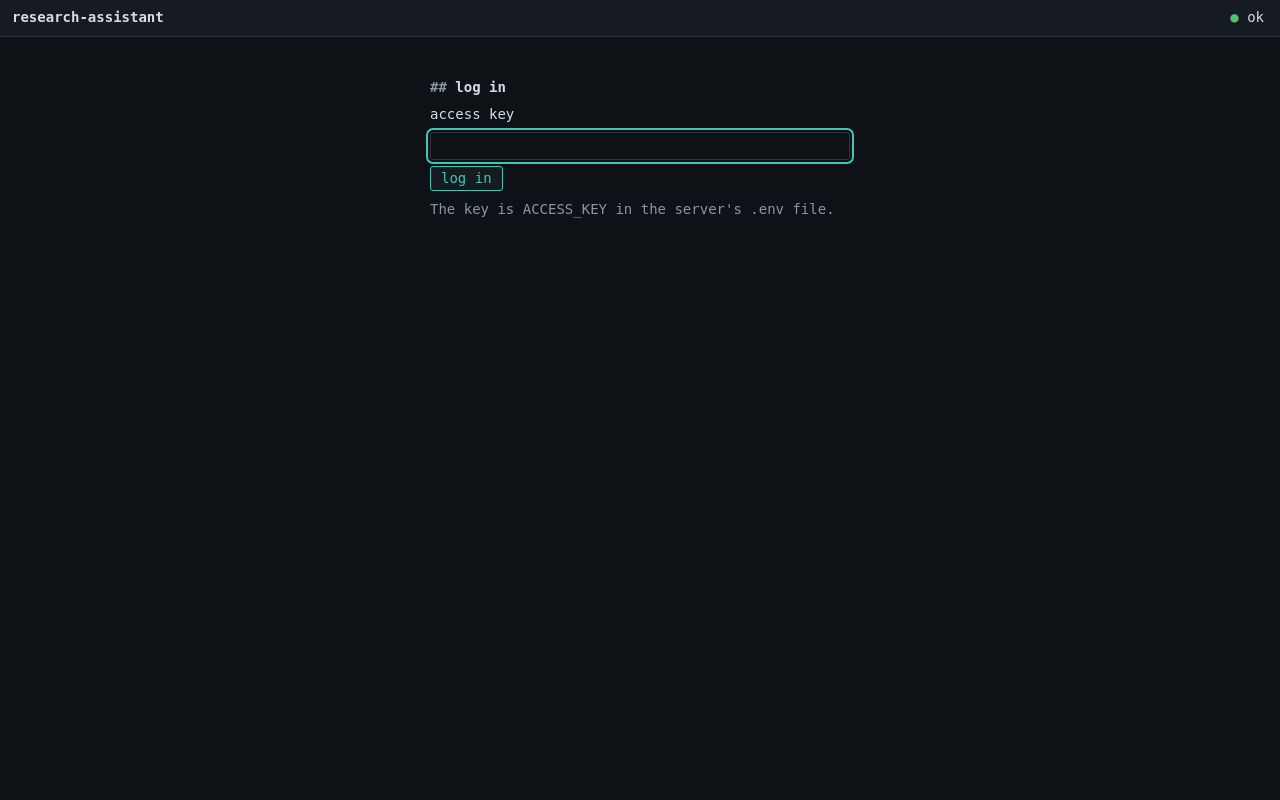
Test: login › shows a wrong key without leaving the page, then logs in and returns to next
The image size is (1280, 800).
Type "not-the-key" into the password field labelled "access key" at coordinates (640, 146), box [430,132,850,160]
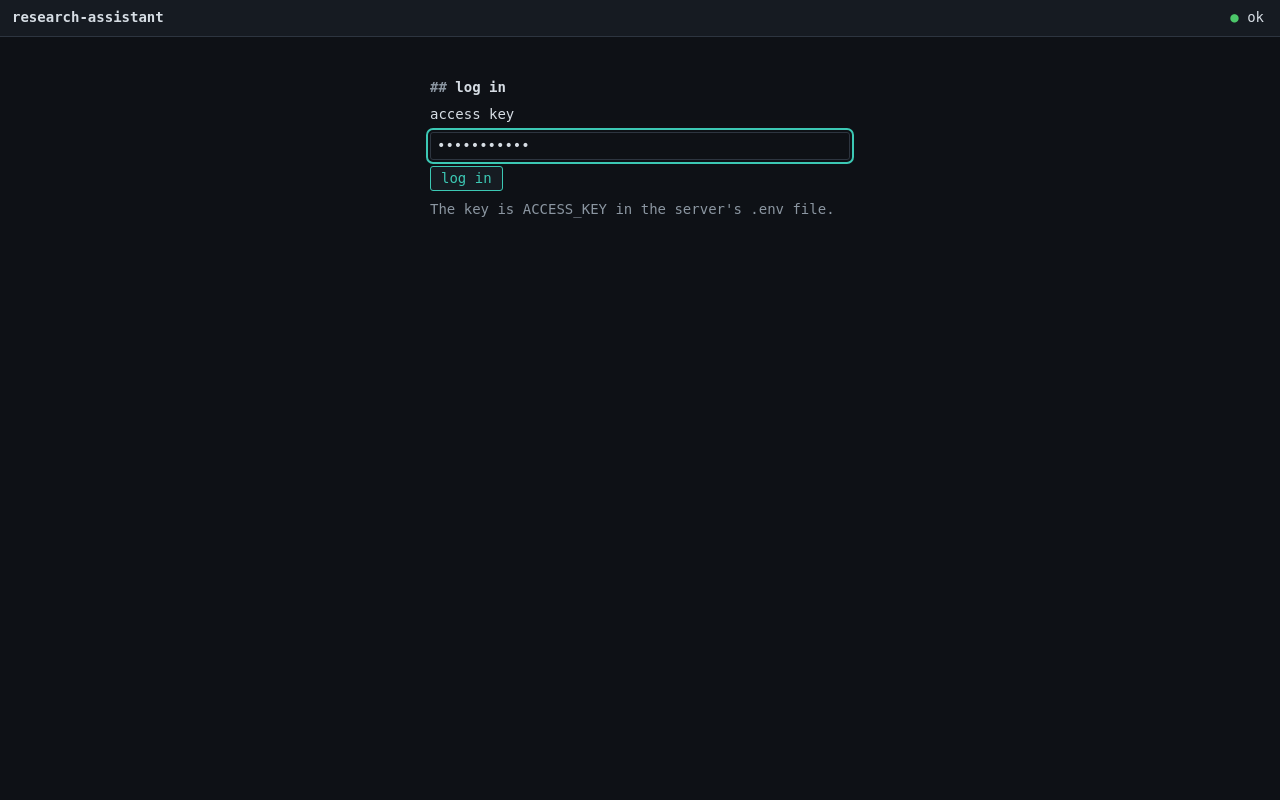
Click the button "log in" at coordinates (466, 179), box [430,166,503,192]
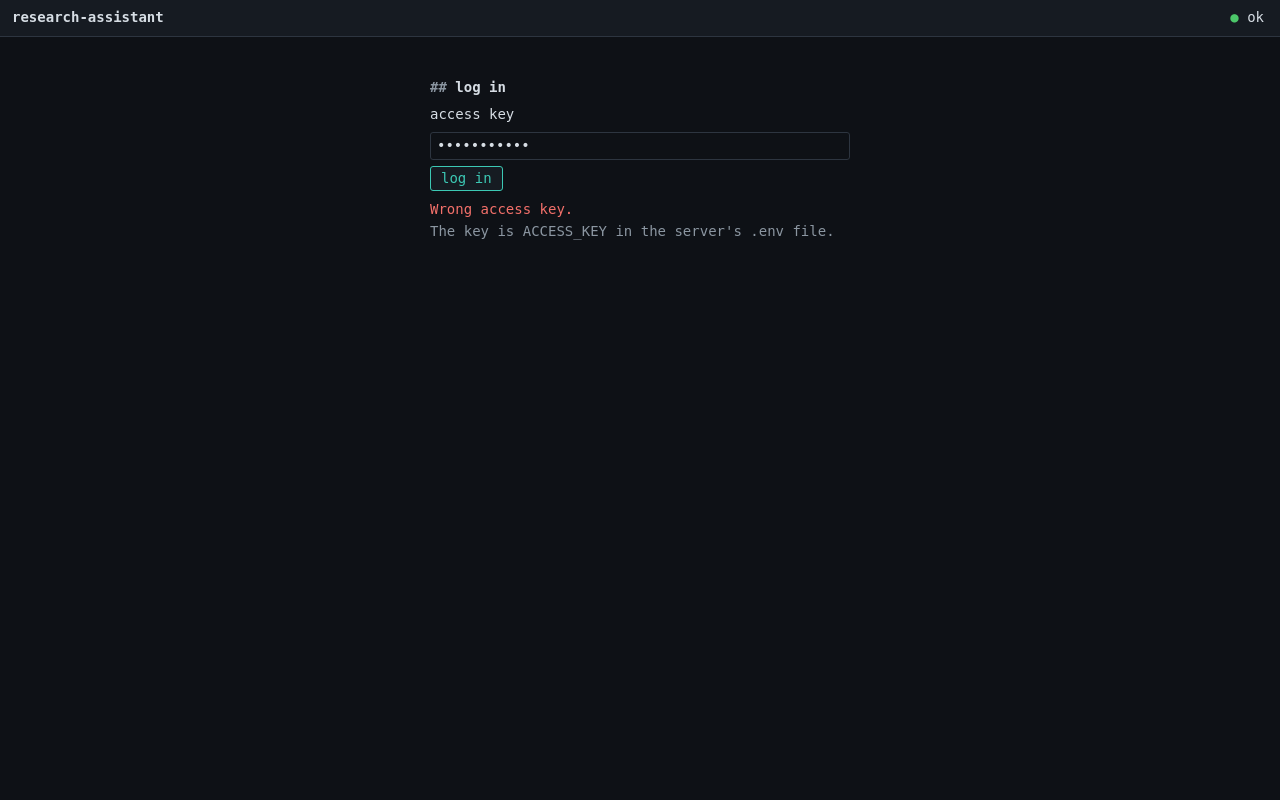
Result: the message "Wrong access key." is shown at [430,201,573,217]
Type "the-right-key" into the password field labelled "access key" at coordinates (640, 146), box [430,132,850,160]
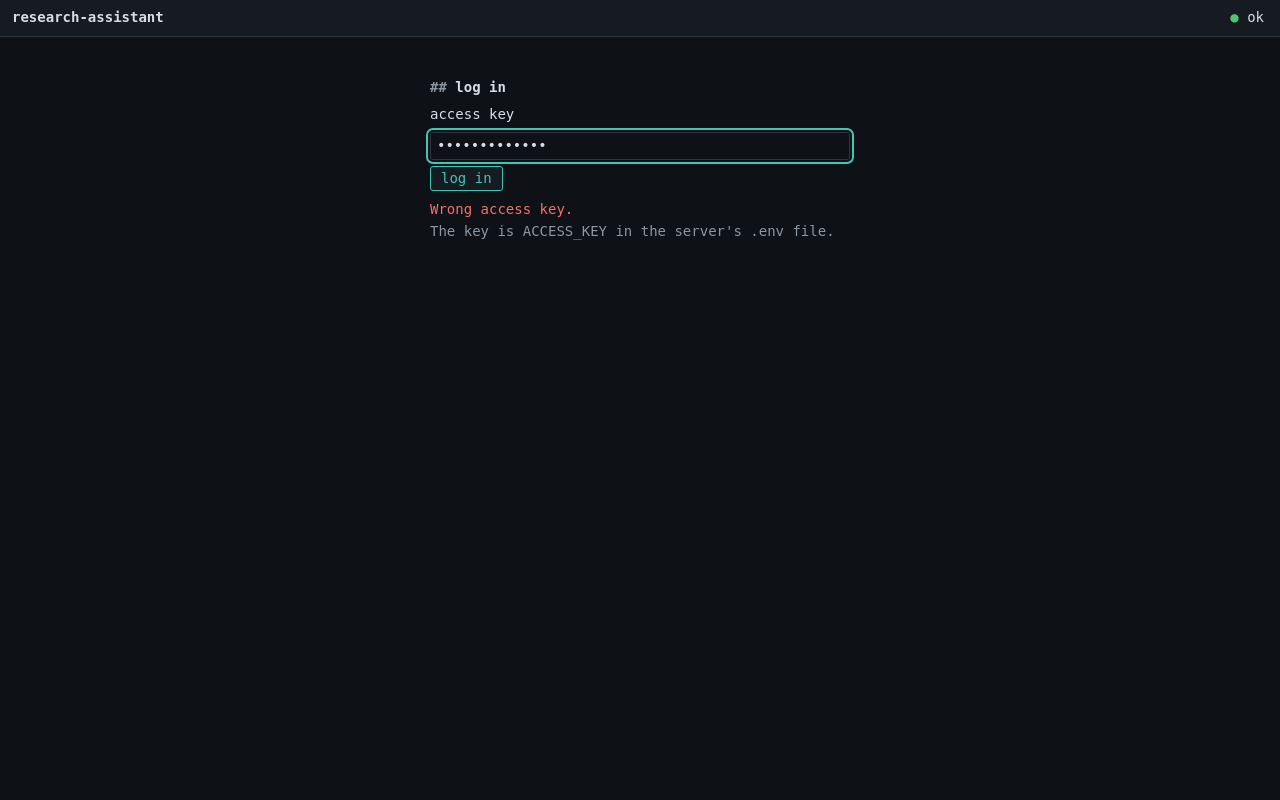
Click the button "log in" at coordinates (466, 179), box [430,166,503,192]
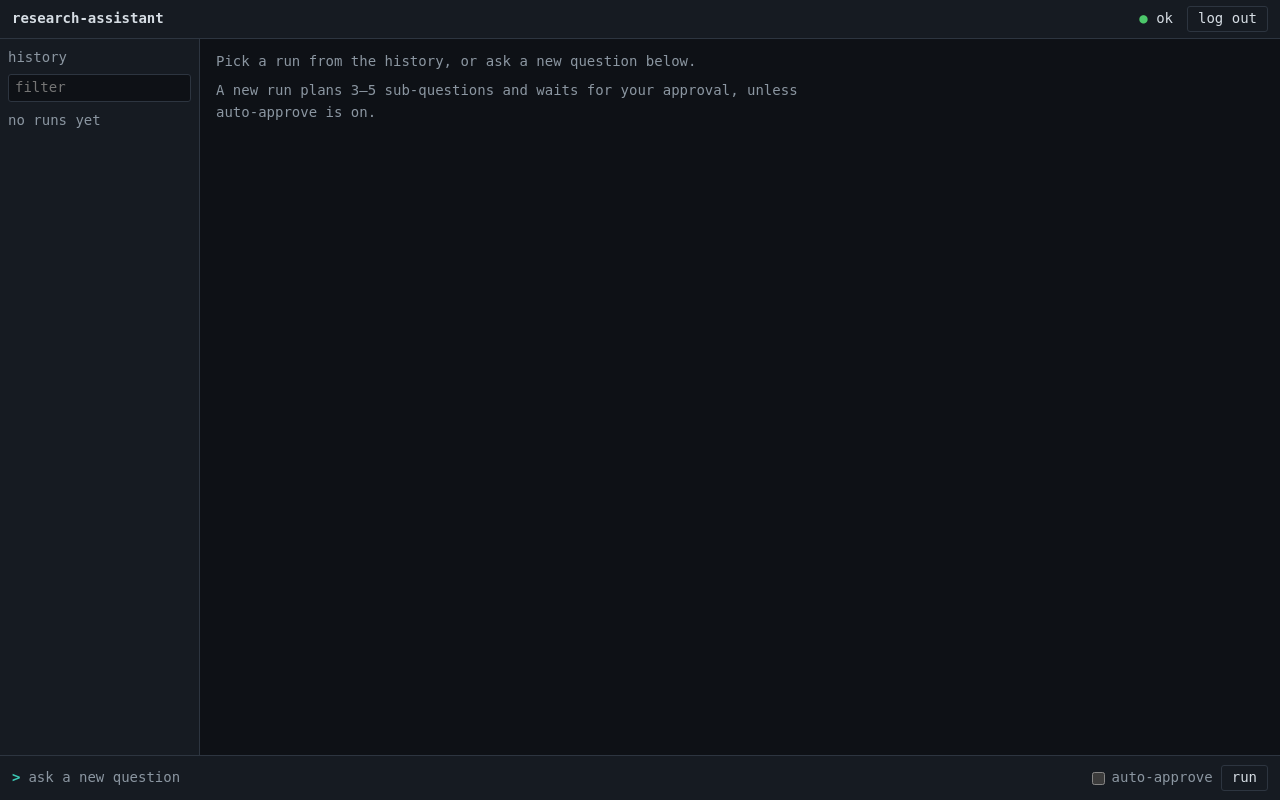
Result: the button "log out" is shown at [1187,6,1268,32]
